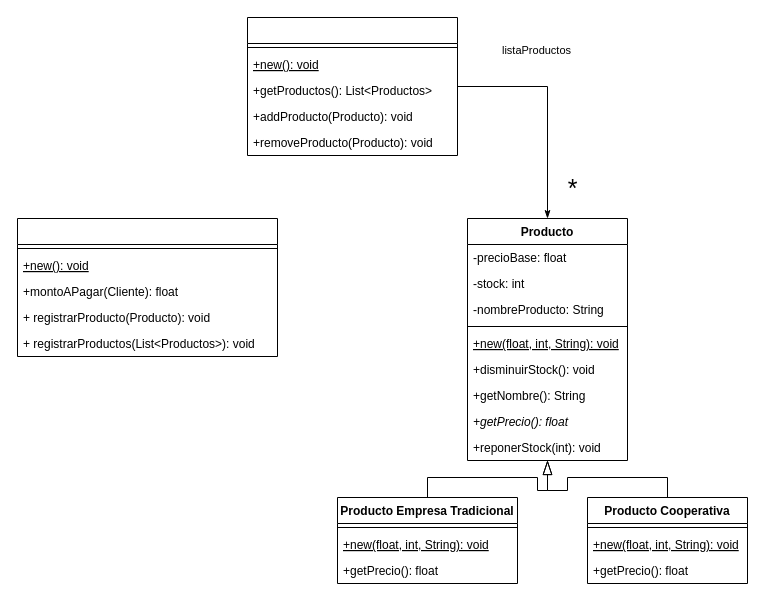
Image size: 765x604. Some labels were removed from this diagram. The shapes that lost their labels are listed below. From the top down, each one's box as (x1, y1, x2, y2) in pixels, then its label:
(246, 16, 458, 156): Cliente
(16, 218, 278, 356): Caja
